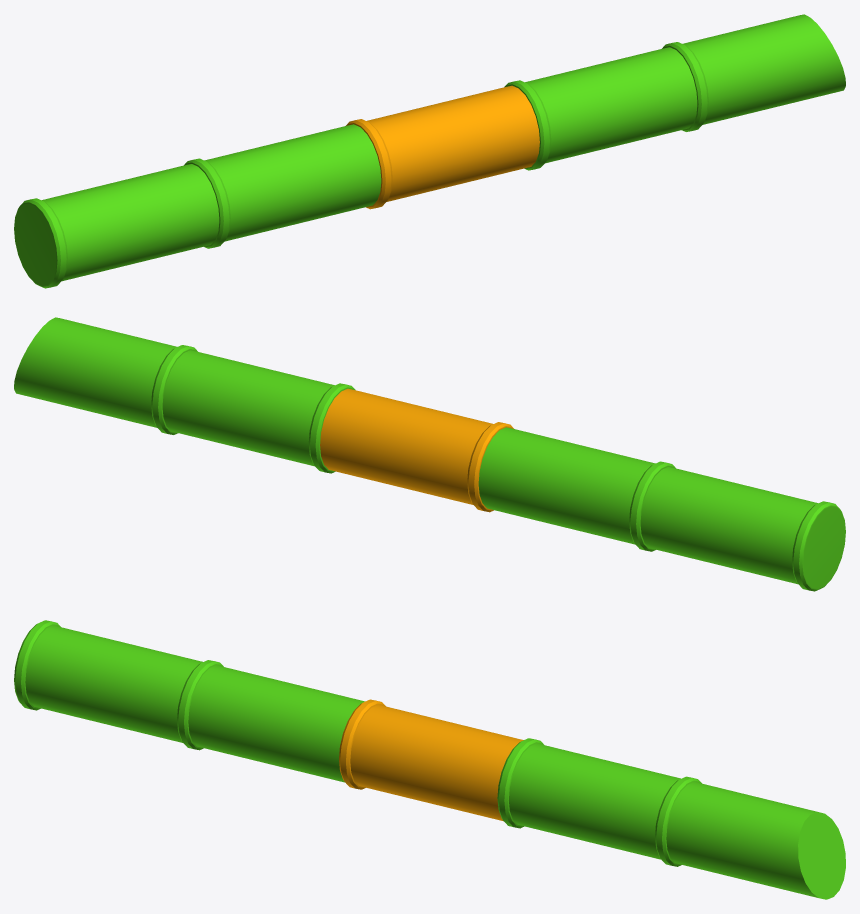
File: Bamboo_Middle_1.fbx
The picture shows the model from 3 angles, top to bottom: view 1: azimuth 30°, elevation 25°; view 2: azimuth 150°, elevation 25°; view 3: azimuth 330°, elevation 25°; orthographic projection.
Parts seen in each view (by area): view 1: Bamboo_Middle_1; view 2: Bamboo_Middle_1; view 3: Bamboo_Middle_1.
Part boxes in pixels (x1,y1,x2,y2): Bamboo_Middle_1: (14, 14, 845, 288); Bamboo_Middle_1: (14, 317, 845, 591); Bamboo_Middle_1: (14, 620, 845, 899).
Bounding box in the file's own units: 2.63 × 0.2609 × 0.2609.
